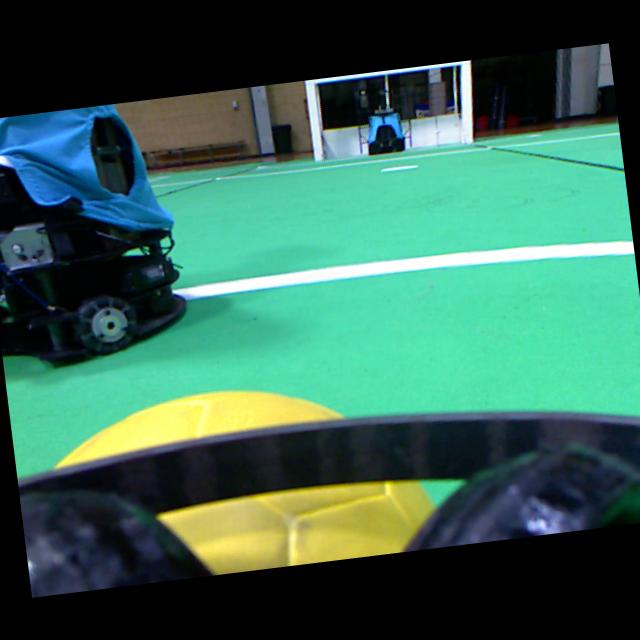ball: (55, 392, 435, 574)
goal: (304, 79, 322, 160), (459, 60, 472, 143)
